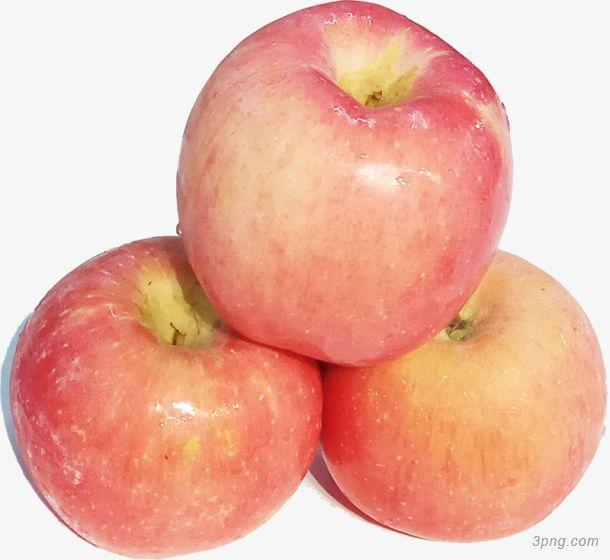apple: (177, 1, 516, 369), (9, 241, 326, 552), (311, 250, 604, 547)
